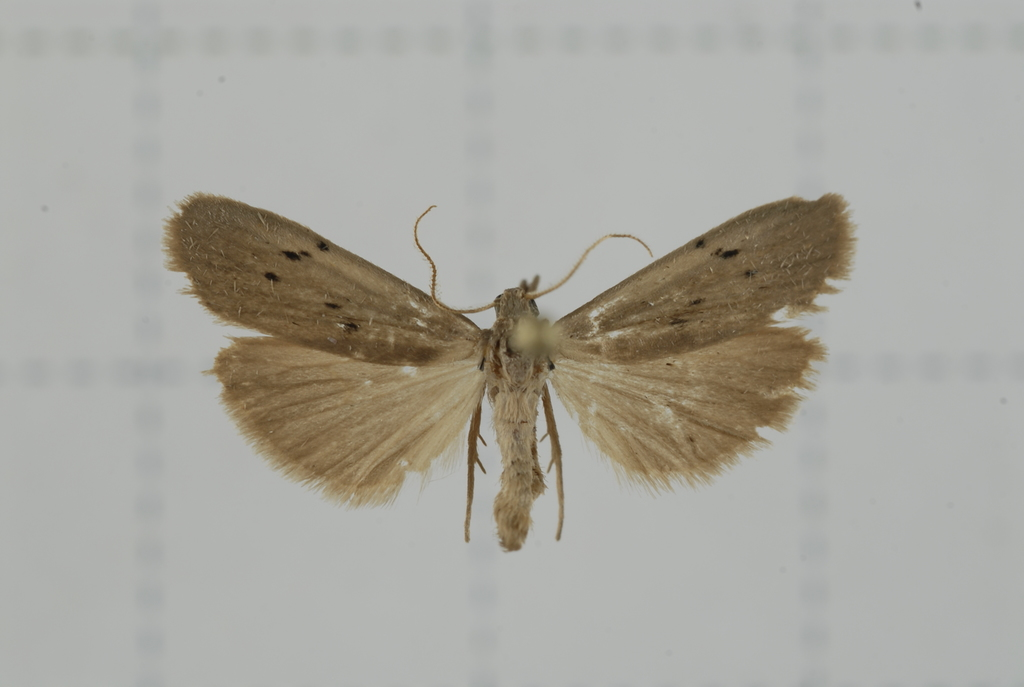Butterfly: (147, 177, 907, 562)
